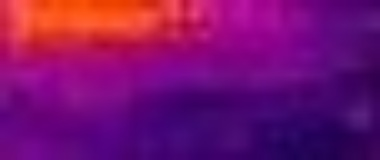Shadow: (127, 46, 380, 160), (1, 62, 127, 160), (187, 1, 380, 44)
